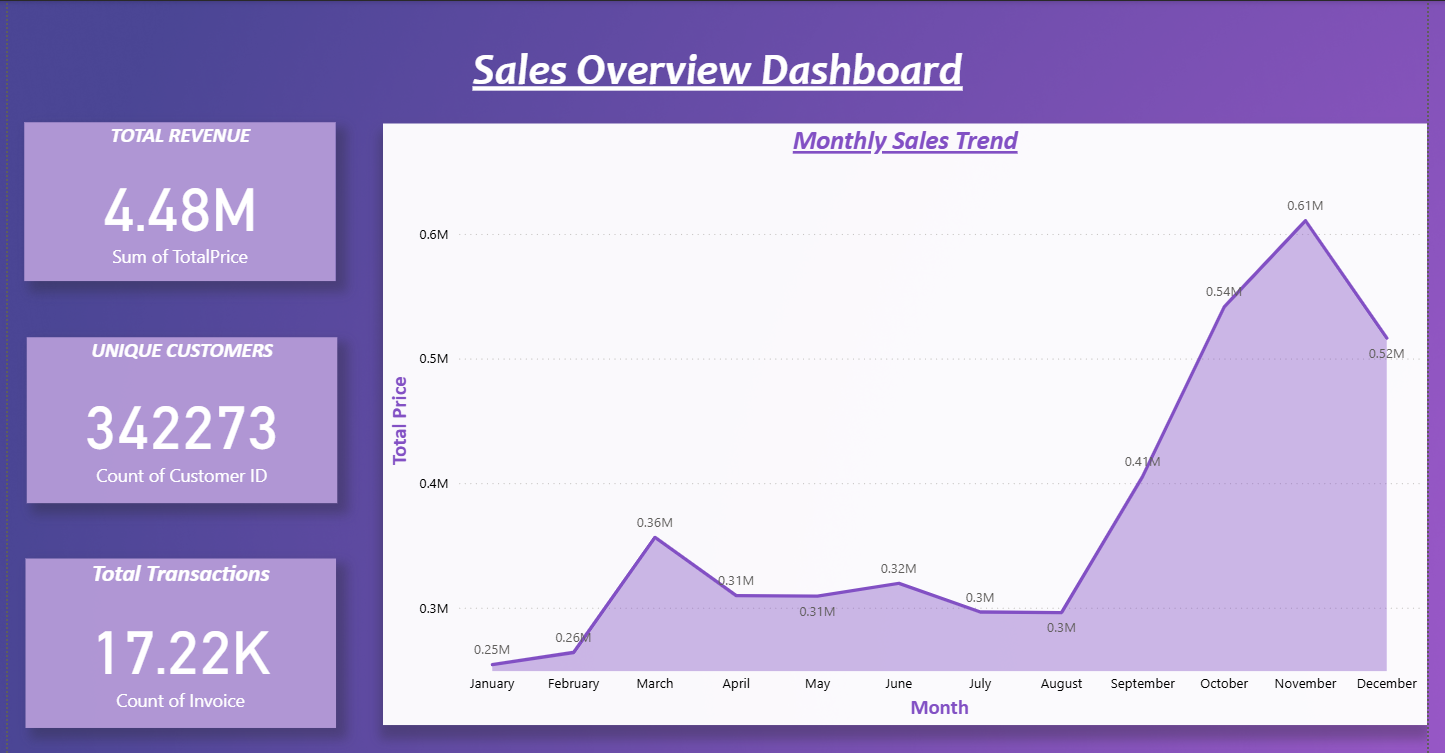

This screenshot's page, from the dashboard's own definition file:
{"tool":"powerbi","page":{"name":"Sales Overview","canvas":[1280,720],"ordinal":0},"visuals":[{"type":"card","title":"TOTAL REVENUE","fields":{"Values":["Sum(cleaned_online_retail.TotalPrice)"]},"box":[65.1,101.1,281.3,279.9],"z":0},{"type":"card","title":"UNIQUE CUSTOMERS","fields":{"Values":["CountNonNull(cleaned_online_retail.Customer ID)"]},"box":[497.4,101.1,279.9,279.9],"z":1000},{"type":"textbox","title":"Sales Overview ","box":[454.5,0,370,66.5],"z":2000},{"type":"card","title":"Total Transactions","fields":{"Values":["Count(cleaned_online_retail.Invoice)"]},"box":[928.3,101.1,279.9,279.9],"z":3000},{"type":"lineChart","title":"Monthly Sales Trend","fields":{"Category":["cleaned_online_retail.InvoiceMonth.Variation.Date Hierarchy.Month"],"Y":["Sum(cleaned_online_retail.TotalPrice)"]},"box":[246.6,411.5,723.3,309],"z":4000}]}

Visuals, with their boxes on the page's 1280x720 design canvas (x1, y1, x2, y2). These are canvas units, not pixel positions in the 1445x753 screenshot, which may show the page scaled, cropped or inside an application window:
"TOTAL REVENUE" card: (x1=65, y1=101, x2=346, y2=381)
"UNIQUE CUSTOMERS" card: (x1=497, y1=101, x2=777, y2=381)
"Sales Overview " textbox: (x1=454, y1=0, x2=824, y2=66)
"Total Transactions" card: (x1=928, y1=101, x2=1208, y2=381)
"Monthly Sales Trend" lineChart: (x1=247, y1=412, x2=970, y2=720)
